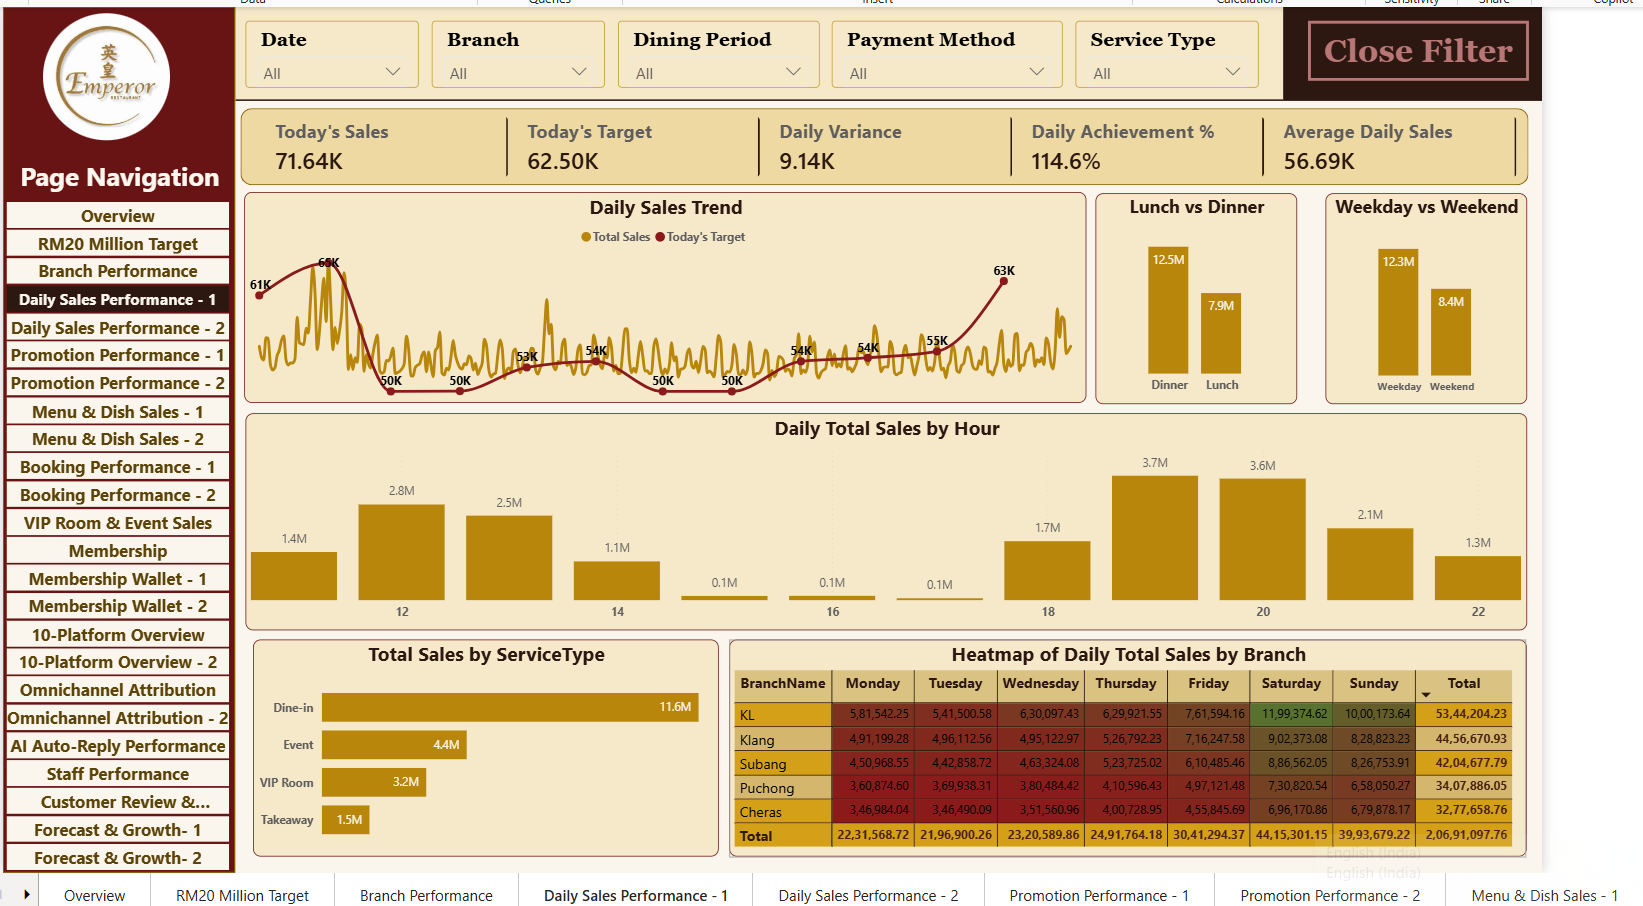

What the dashboard file says about the page in this screenshot:
{"tool":"powerbi","page":{"name":"Daily Sales Performance - 1","canvas":[1600,900],"ordinal":3},"visuals":[{"type":"lineChart","title":"Daily Sales Trend","fields":{"Category":["Dim_Date.Date"],"Y":["__DAX_Measures.Total Sales"],"Y2":["__DAX_Measures.Today's Target"]},"box":[250.1,191.6,875.3,218.8],"z":0},{"type":"columnChart","title":"Lunch vs Dinner","fields":{"Category":["Fact_Sales.DiningPeriod"],"Y":["__DAX_Measures.Total Sales"]},"box":[1134.9,193,209.3,218.8],"z":1000},{"type":"clusteredColumnChart","title":"Weekday vs Weekend","fields":{"Category":["Dim_Date.Weekend Type"],"Y":["__DAX_Measures.Total Sales"]},"box":[1374.1,193,209.3,218.8],"z":2000},{"type":"columnChart","title":"Daily Total Sales by Hour","fields":{"Category":["Fact_Sales.OrderHour"],"Y":["__DAX_Measures.Total Sales"]},"box":[251.4,422.7,1332,225.6],"z":3000},{"type":"barChart","fields":{"Category":["Fact_Sales.ServiceType"],"Y":["__DAX_Measures.Total Sales"]},"box":[259.6,657.8,483.9,225.6],"z":4000},{"type":"shape","box":[0,0,241.3,899.7],"z":5000},{"type":"shape","box":[247.1,104.7,1338.7,79.9],"z":6000},{"type":"cardVisual","fields":{"Data":["__DAX_Measures.Today's Sales","__DAX_Measures.Today's Target","__DAX_Measures.Daily Variance","__DAX_Measures.Daily Achievement %","__DAX_Measures.Average Daily Sales"]},"box":[260.2,103.2,1324.1,85.8],"z":7000},{"type":"pivotTable","title":"Heatmap of Daily Total Sales by Branch","fields":{"Columns":["Dim_Date.DayOfWeek"],"Rows":["Dim_Branch.BranchName"],"Values":["__DAX_Measures.Total Sales"]},"box":[754.3,657.8,829.1,225.6],"z":8000},{"type":"textbox","box":[241.3,0,1359,97.4],"z":9000},{"type":"shape","box":[241.3,0,1088.7,95.9],"z":10000},{"type":"actionButton","title":"Close Filter","box":[1356.1,14.5,229.7,62.5],"z":11000},{"type":"slicer","fields":{"Values":["Dim_Date.Date"]},"box":[251.5,14.5,180.2,69.8],"z":13000},{"type":"slicer","fields":{"Values":["Dim_Branch.BranchName"]},"box":[445.1,14.5,180.2,69.8],"z":14000},{"type":"slicer","fields":{"Values":["Fact_Sales.ServiceType"]},"box":[1114.8,14.5,190.4,69.8],"z":15000},{"type":"slicer","fields":{"Values":["Fact_Sales.DiningPeriod"]},"box":[638.8,14.5,209.3,69.8],"z":16000},{"type":"slicer","fields":{"Values":["Dim_PaymentMethod.PaymentMethod"]},"box":[861.6,14.5,239.8,69.8],"z":17000},{"type":"image","box":[41.9,6.2,131.9,131.9],"z":20000},{"type":"pageNavigator","box":[4.4,202.3,231.1,697.7],"z":20001},{"type":"textbox","box":[0,152.6,242.7,46.5],"z":20002}]}

Visuals, with their boxes on the page's 1600x900 design canvas (x1, y1, x2, y2). These are canvas units, not pixel positions in the 1643x906 screenshot, which may show the page scaled, cropped or inside an application window:
"Daily Sales Trend" lineChart: x1=250 y1=192 x2=1125 y2=410
"Lunch vs Dinner" columnChart: x1=1135 y1=193 x2=1344 y2=412
"Weekday vs Weekend" clusteredColumnChart: x1=1374 y1=193 x2=1583 y2=412
"Daily Total Sales by Hour" columnChart: x1=251 y1=423 x2=1583 y2=648
barChart - Fact_Sales.ServiceType x __DAX_Measures.Total Sales: x1=260 y1=658 x2=744 y2=883
shape: x1=0 y1=0 x2=241 y2=900
shape: x1=247 y1=105 x2=1586 y2=185
cardVisual - __DAX_Measures.Today's Sales x __DAX_Measures.Today's Target: x1=260 y1=103 x2=1584 y2=189
"Heatmap of Daily Total Sales by Branch" pivotTable: x1=754 y1=658 x2=1583 y2=883
textbox: x1=241 y1=0 x2=1600 y2=97
shape: x1=241 y1=0 x2=1330 y2=96
"Close Filter" actionButton: x1=1356 y1=14 x2=1586 y2=77
slicer - Dim_Date.Date: x1=252 y1=14 x2=432 y2=84
slicer - Dim_Branch.BranchName: x1=445 y1=14 x2=625 y2=84
slicer - Fact_Sales.ServiceType: x1=1115 y1=14 x2=1305 y2=84
slicer - Fact_Sales.DiningPeriod: x1=639 y1=14 x2=848 y2=84
slicer - Dim_PaymentMethod.PaymentMethod: x1=862 y1=14 x2=1101 y2=84
image: x1=42 y1=6 x2=174 y2=138
pageNavigator: x1=4 y1=202 x2=236 y2=900
textbox: x1=0 y1=153 x2=243 y2=199
